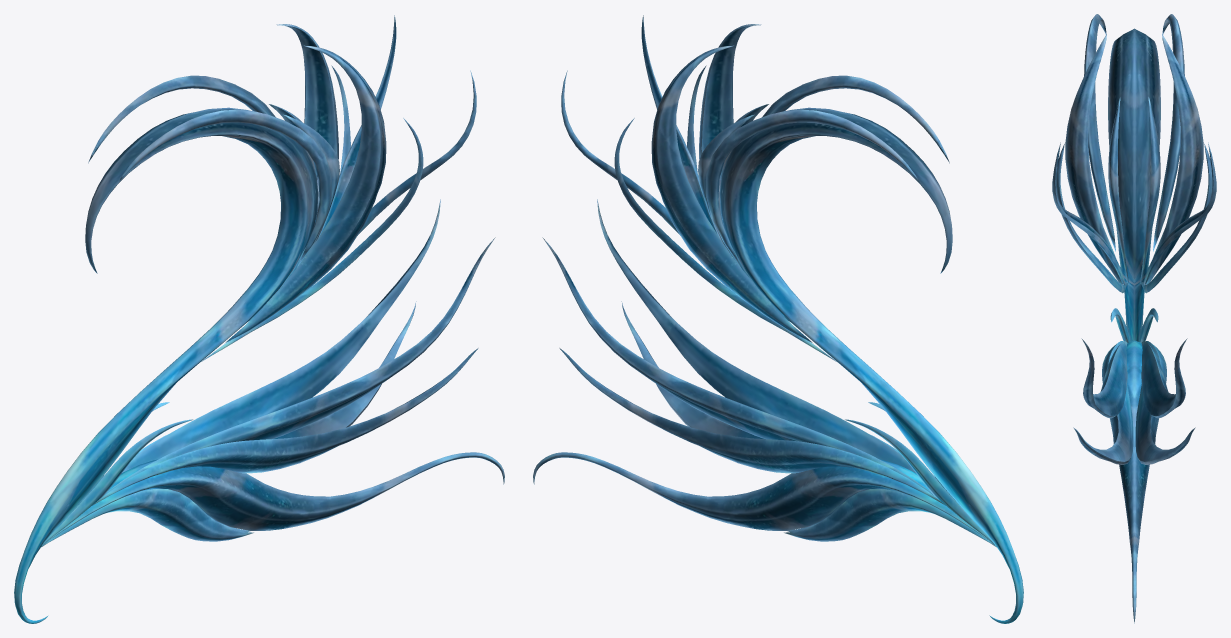
The model's file is pet-1299.glb.
The picture shows the model from 3 angles, left to right: view 1: azimuth 30°, elevation 25°; view 2: azimuth 150°, elevation 25°; view 3: azimuth 270°, elevation 25°; orthographic projection. The views are drawn at different scales.
Visible parts, largest first — view 1: VEH_Showcase_01; view 2: VEH_Showcase_01; view 3: VEH_Showcase_01.
Boxes of the visible parts, <box> form: VEH_Showcase_01: <box>14,15,504,623</box>; VEH_Showcase_01: <box>533,15,1023,623</box>; VEH_Showcase_01: <box>1052,14,1216,623</box>.
Bounding box in the file's own units: 2.66 × 2.73 × 0.7936.
1 material, 1 textured.
